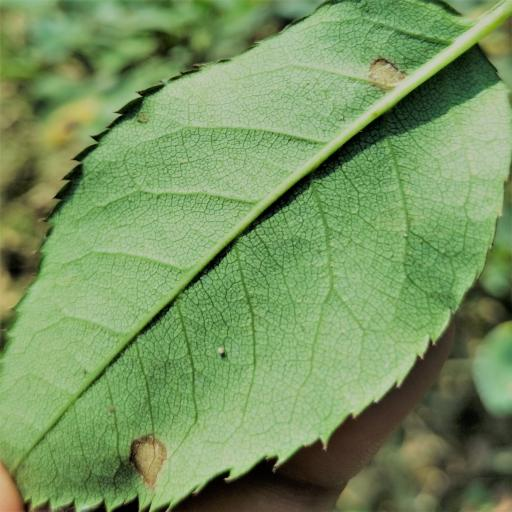black_spot: (0, 0, 512, 510)
